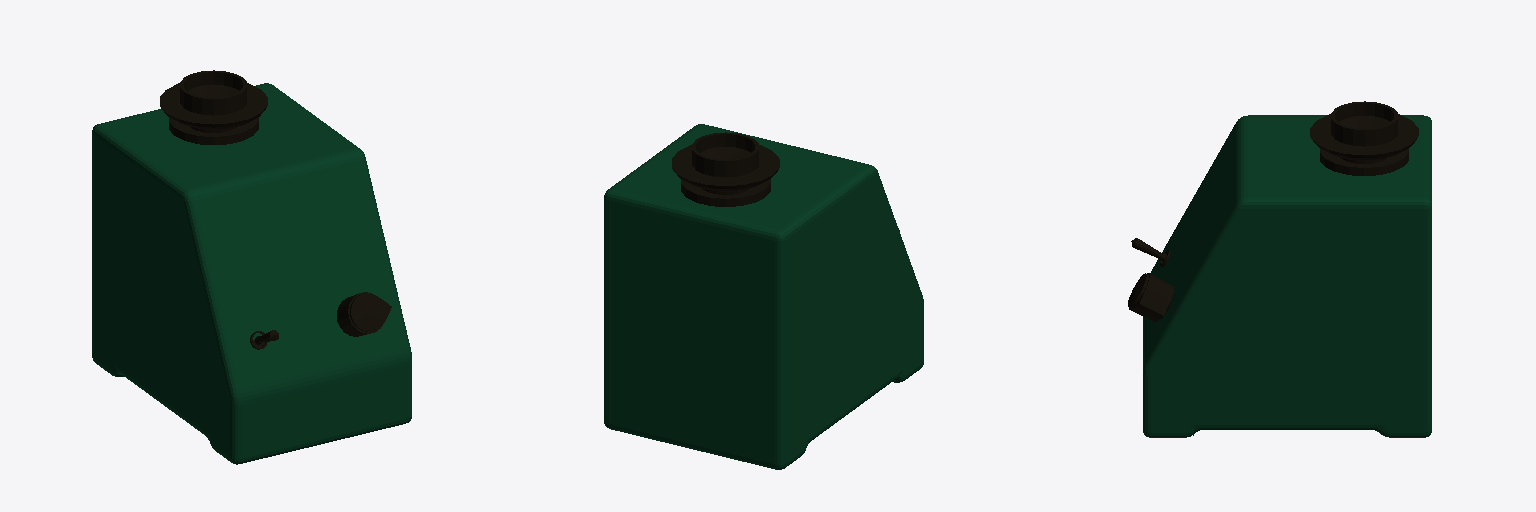
The model's file is mixer.obj.
The picture shows the model from 3 angles: view 1: azimuth 30°, elevation 25°; view 2: azimuth 150°, elevation 25°; view 3: azimuth 270°, elevation 25°; orthographic projection.
Parts seen in each view (by area): view 1: Box001, Cylinder335; view 2: Box001, Cylinder335; view 3: Box001, Cylinder335.
Part boxes in pixels (left/top/right/bottom): Box001: left=92, top=83, right=411, bottom=464; Cylinder335: left=160, top=70, right=391, bottom=349; Box001: left=604, top=124, right=923, bottom=469; Cylinder335: left=672, top=132, right=899, bottom=230; Box001: left=1143, top=115, right=1431, bottom=437; Cylinder335: left=1128, top=101, right=1418, bottom=321.
Bounding box in the file's own units: 73.73 × 109 × 108.